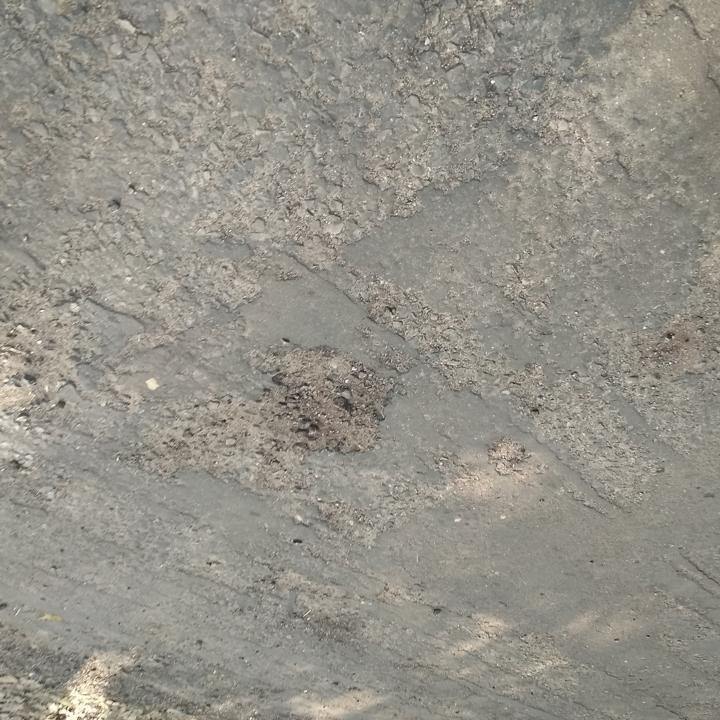pothole: (269, 347, 402, 461)
